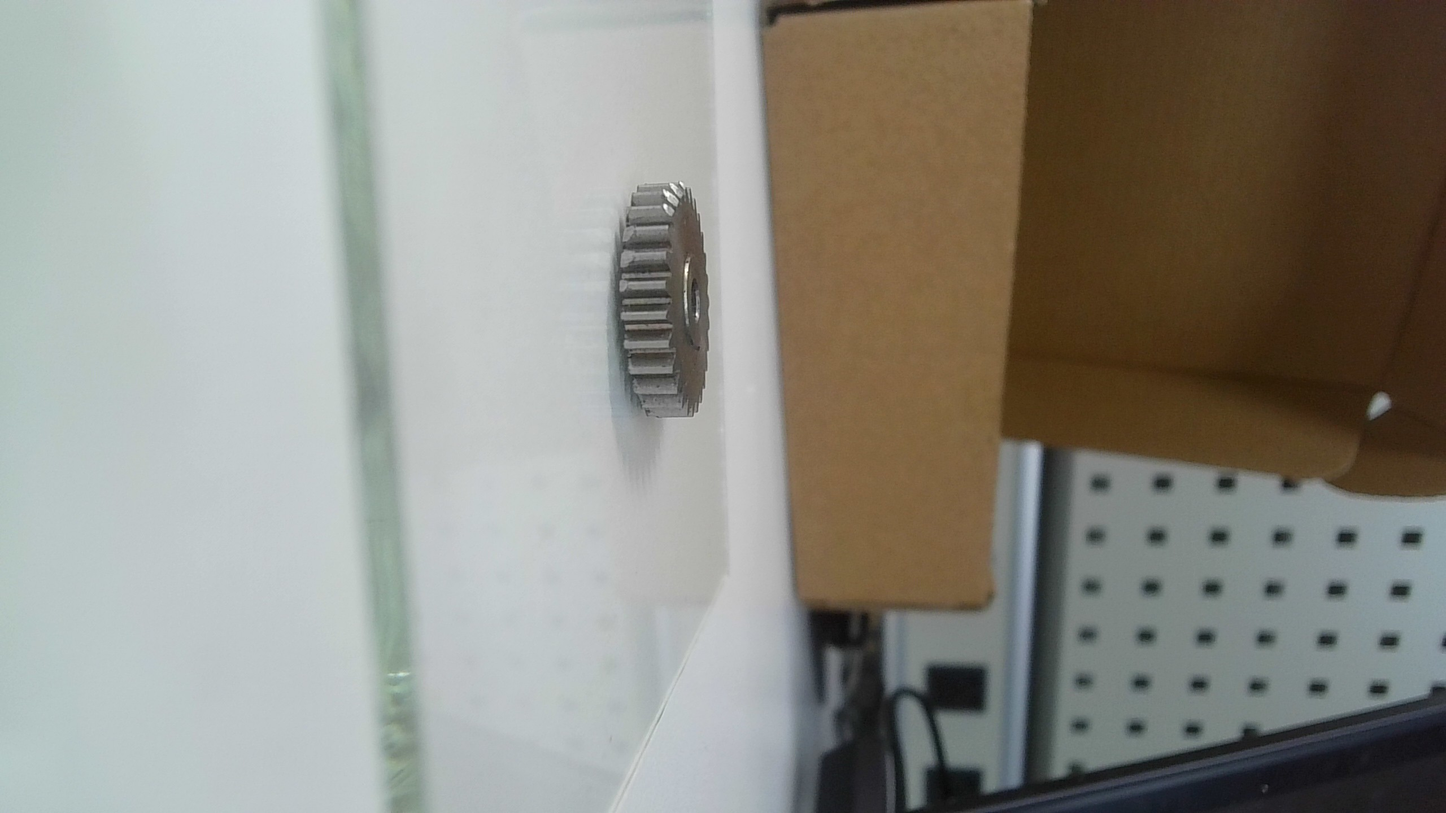gear: (611, 178, 716, 421)
